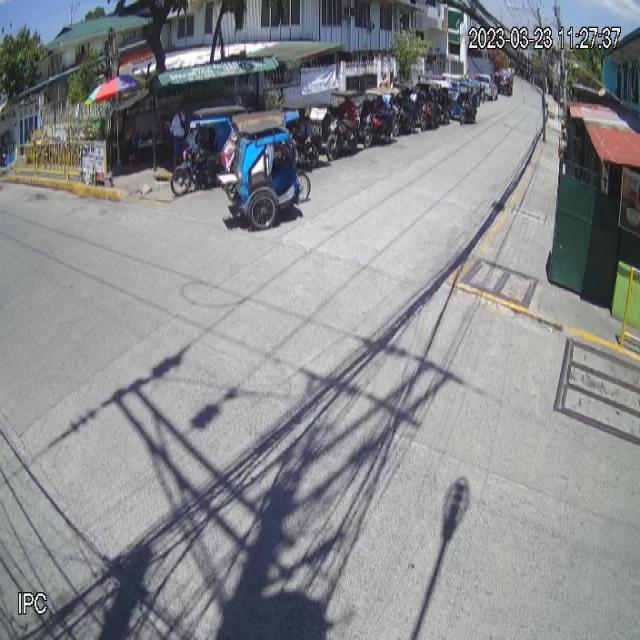Tricycle: (217, 110, 312, 234)
